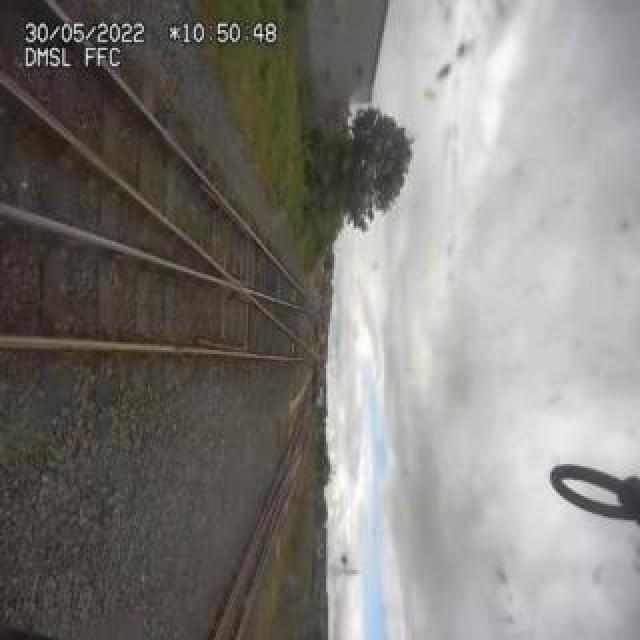rusted-track: (3, 332, 163, 378)
